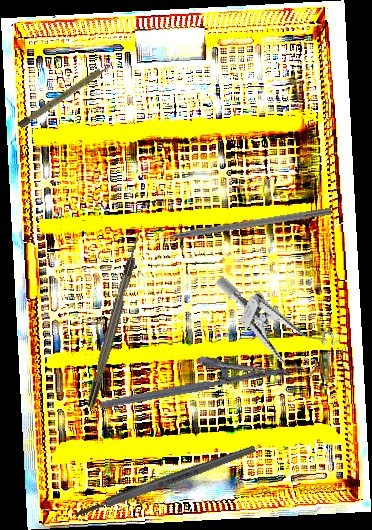Hook Surgical: (84, 227, 146, 409), (147, 205, 332, 244)
Needle Holder: (94, 341, 293, 410)
Scalpel Handle: (73, 443, 258, 520), (17, 60, 115, 129)
Speculum: (196, 275, 347, 383)
